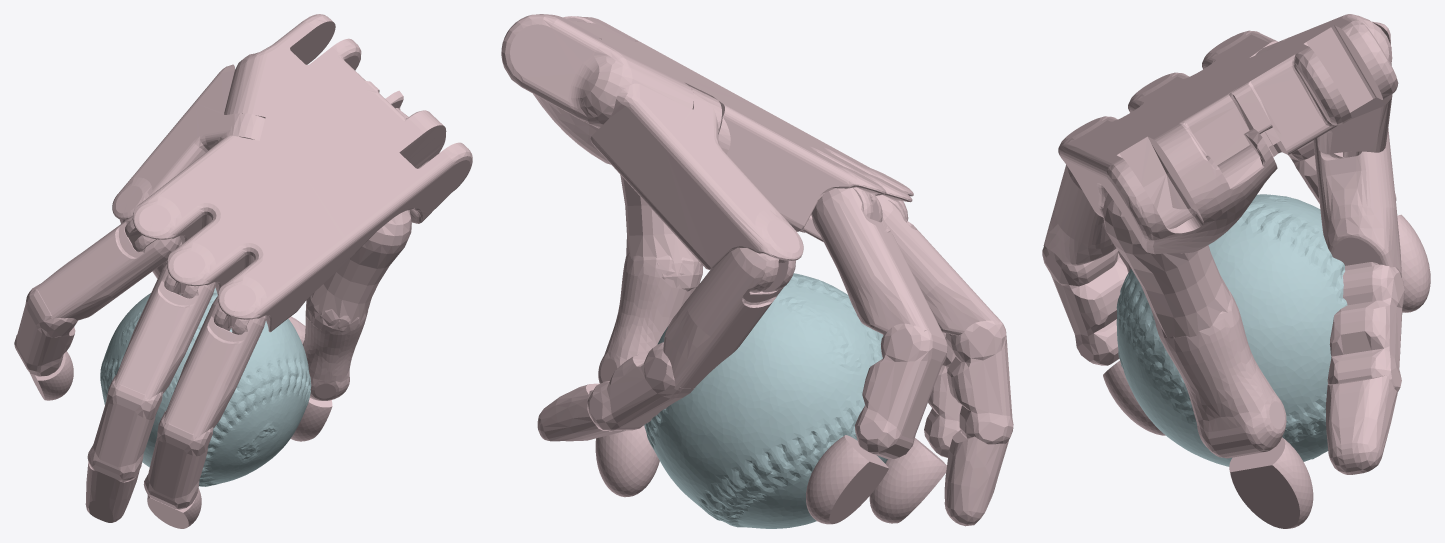
The model's file is grasp_9.glb.
3 renders of one model, left to right at view 1: azimuth 30°, elevation 25°; view 2: azimuth 150°, elevation 25°; view 3: azimuth 270°, elevation 25°, orthographic. The views are drawn at different scales.
Visible parts, largest first — view 1: world; view 2: world; view 3: world.
Boxes of the visible parts, box(x1,y1,x2,y2) form: world: box(14, 14, 472, 528); world: box(501, 14, 1013, 528); world: box(1042, 14, 1430, 528).
Size of the model in its own units: 0.1527 by 0.1576 by 0.1018.
